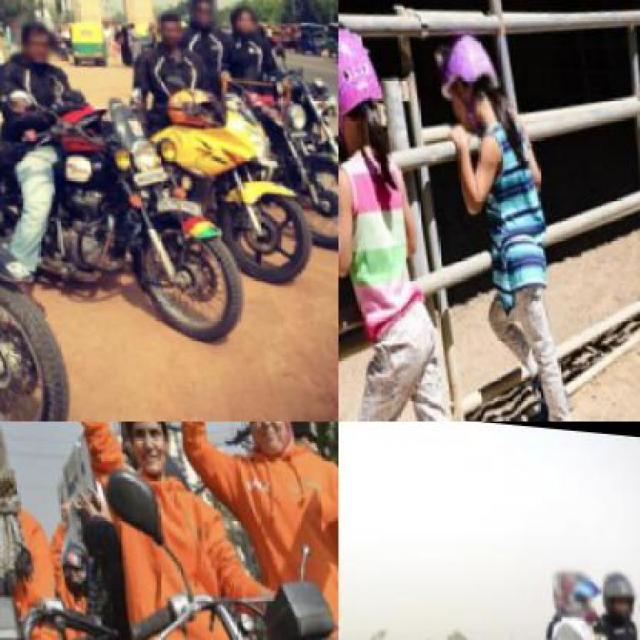With Helmet: (426, 19, 511, 138), (338, 5, 398, 149), (547, 551, 596, 611), (599, 553, 635, 609)
Without Helmet: (109, 422, 177, 472), (6, 5, 60, 62), (234, 422, 300, 462), (150, 0, 188, 45), (224, 0, 261, 32), (182, 0, 222, 25)
